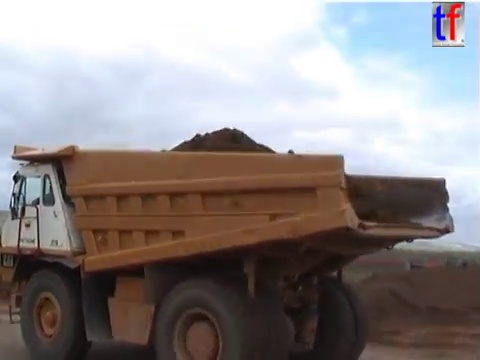truck: (1, 141, 458, 360)
